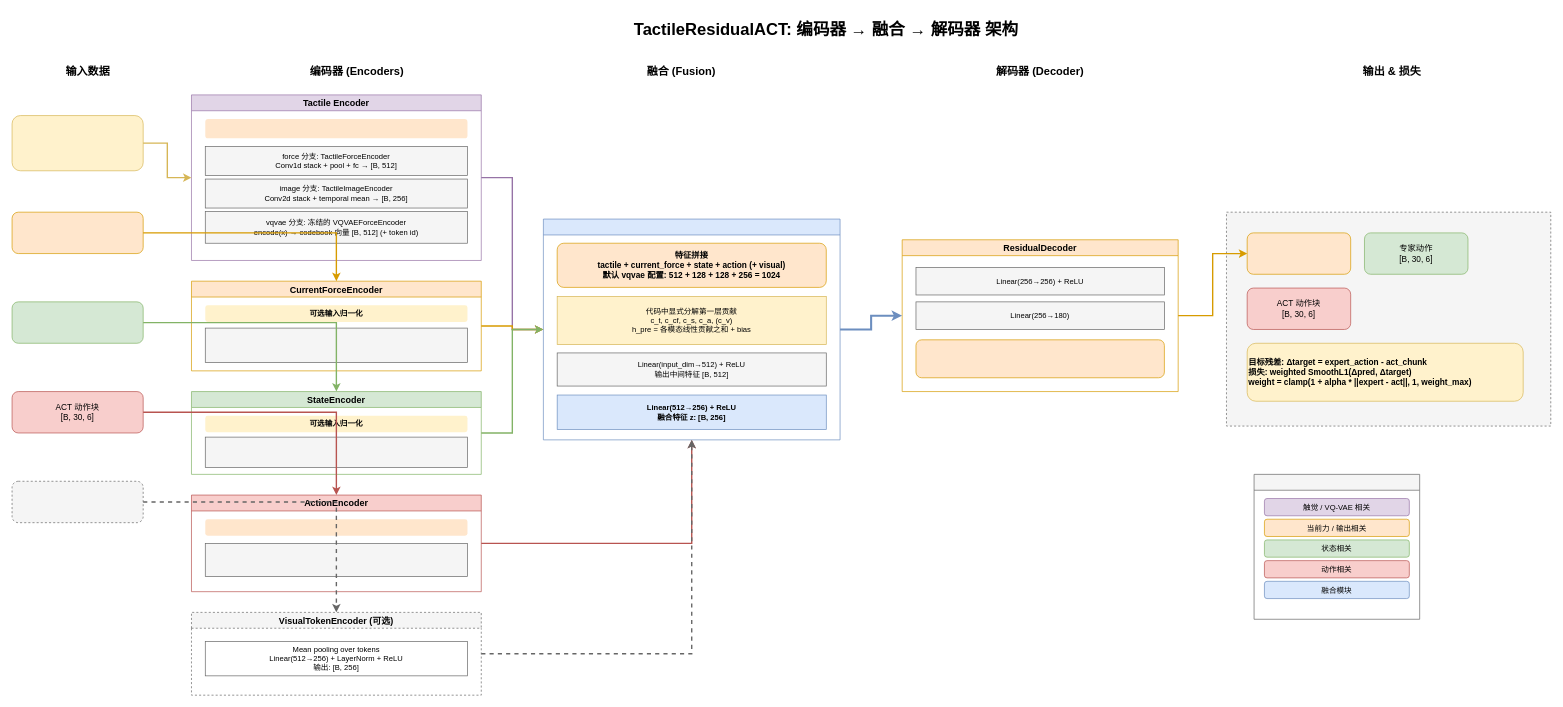
The diagram is 1563 pixels wide and 707 high, and some of its shapes have lost their labels. The box of each missing label's shape, as (x1, y1, x2, y2) in pixels:
ACT 视觉 tokens (可选) [B, S, 512]: (11, 481, 143, 523)
Flatten: [B, 30, 6] → [B, 180]: (205, 519, 467, 535)
FusionEncoder: (543, 218, 840, 440)
Linear(12→64) + ReLU Linear(64→128) + LayerNorm + ReLU 输出: [B, 128]: (205, 327, 467, 363)
Linear(180→128) + ReLU Linear(128→256) + LayerNorm + ReLU 输出: [B, 256]: (205, 543, 467, 576)
Linear(6→128) + ReLU Linear(128→128) + LayerNorm + ReLU 输出: [B, 128]: (205, 436, 467, 467)
Reshape: [B, 180] → [B, 30, 6] 预测残差动作 Δpred: (915, 339, 1164, 378)
可选输入归一化: Z-score by channel: (205, 119, 467, 138)
图例: (1253, 474, 1420, 619)
当前力 [B, 12]: (11, 211, 143, 254)
机器人状态 [B, 6]: (11, 301, 143, 343)
触觉历史 force / vqvae: [B, T, 12] image: [B, T, 6, H, W]: (11, 115, 143, 171)
预测残差 Δpred [B, 30, 6]: (1246, 232, 1351, 274)
